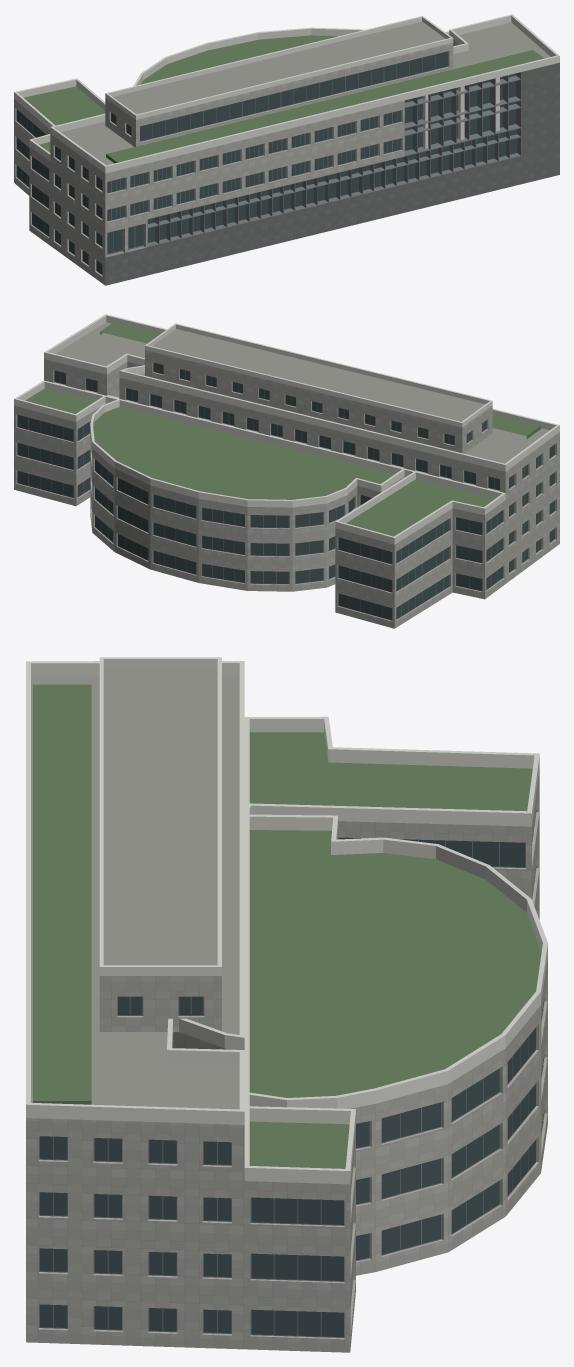
3 renders of one model, top to bottom at view 1: azimuth 30°, elevation 25°; view 2: azimuth 150°, elevation 25°; view 3: azimuth 270°, elevation 25°, orthographic. The views are drawn at different scales.
Parts seen in each view (by area): view 1: internationalHall__wall, internationalHall__glass, internationalHall__dark, internationalHall__frame, internationalHall__trim, internationalHall__roof, internationalHall__roofg; view 2: internationalHall__wall, internationalHall__glass, internationalHall__roofg, internationalHall__trim, internationalHall__roof, internationalHall__frame; view 3: internationalHall__roofg, internationalHall__wall, internationalHall__roof, internationalHall__trim, internationalHall__glass, internationalHall__frame.
Part boxes in pixels (bbox=[...]): internationalHall__wall: bbox=[14, 40, 458, 285]; internationalHall__glass: bbox=[16, 51, 517, 274]; internationalHall__dark: bbox=[105, 62, 559, 285]; internationalHall__frame: bbox=[17, 51, 521, 274]; internationalHall__trim: bbox=[14, 14, 559, 173]; internationalHall__roof: bbox=[61, 21, 550, 256]; internationalHall__roofg: bbox=[24, 35, 544, 163]; internationalHall__wall: bbox=[14, 350, 559, 628]; internationalHall__glass: bbox=[17, 362, 554, 620]; internationalHall__roofg: bbox=[25, 321, 541, 536]; internationalHall__trim: bbox=[14, 314, 559, 544]; internationalHall__roof: bbox=[55, 322, 549, 463]; internationalHall__frame: bbox=[17, 363, 555, 620]; internationalHall__roofg: bbox=[33, 684, 541, 1168]; internationalHall__wall: bbox=[26, 769, 547, 1352]; internationalHall__roof: bbox=[31, 667, 239, 1109]; internationalHall__trim: bbox=[26, 657, 547, 1184]; internationalHall__glass: bbox=[40, 810, 544, 1337]; internationalHall__frame: bbox=[39, 812, 544, 1337].
Bounding box in the file's own units: 66 × 19.6 × 32.04.
Materials: 7 (2 with a texture image).
